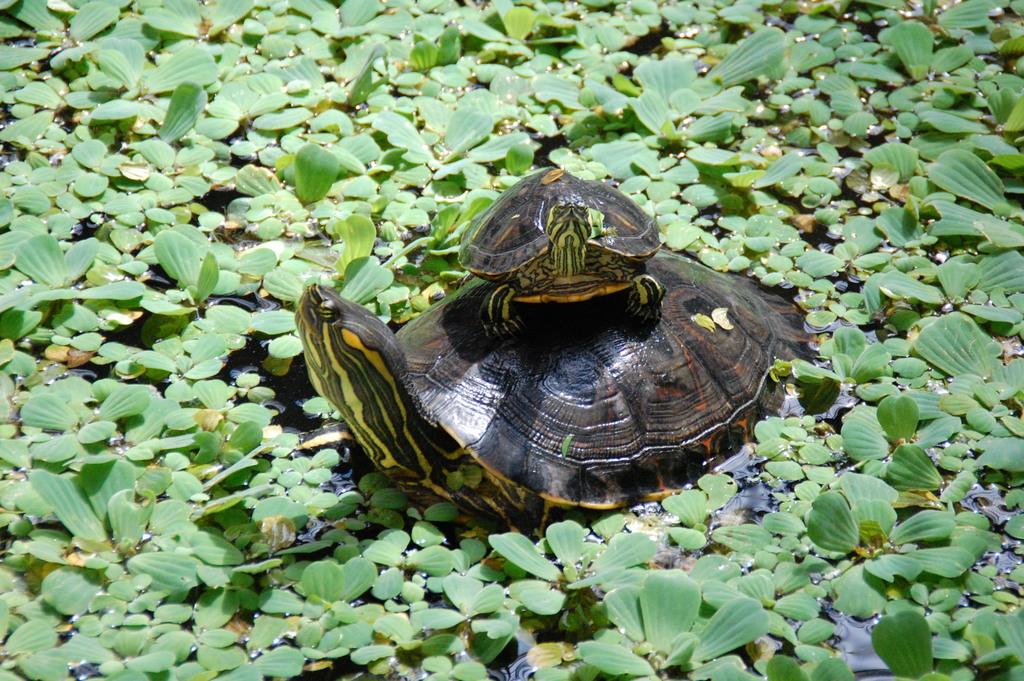Sea turtles: (288, 251, 824, 546), (452, 161, 671, 342)
